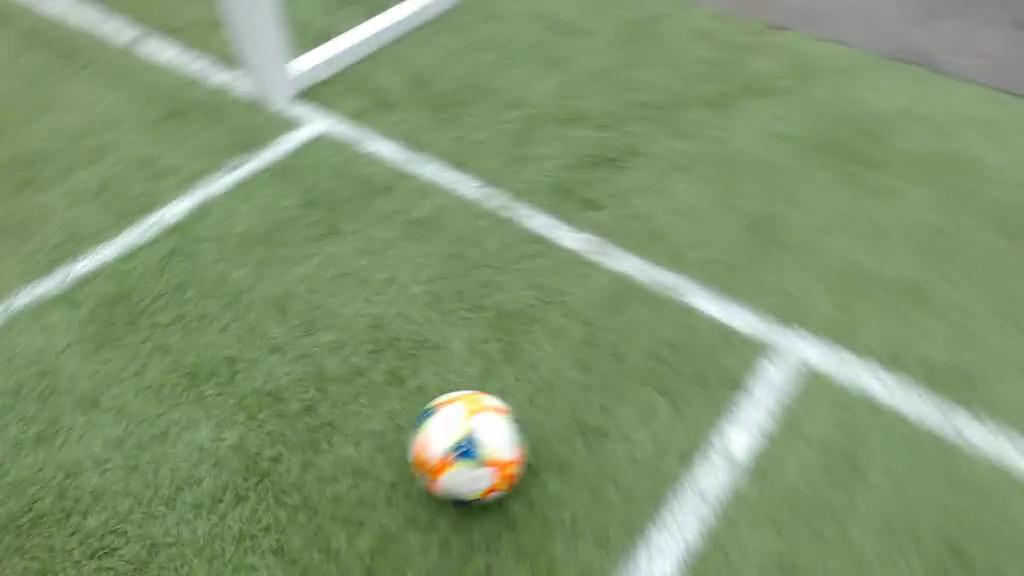ball: (406, 389, 526, 505)
